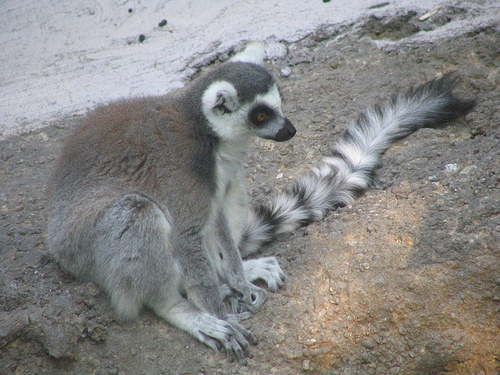cat: (46, 44, 478, 365)
